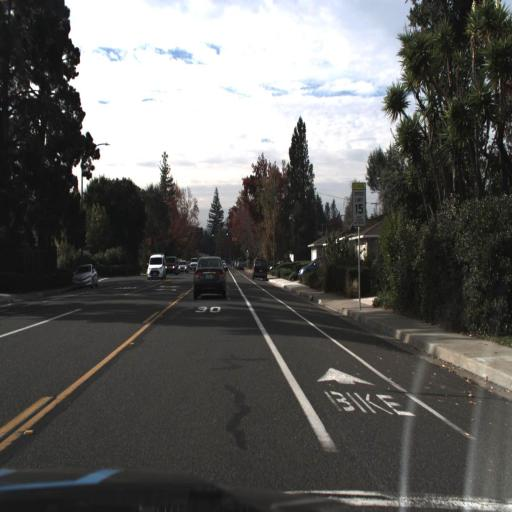car: (191, 253, 230, 302), (297, 253, 328, 282), (69, 262, 99, 290), (143, 252, 169, 282), (251, 254, 270, 281), (164, 251, 178, 277), (187, 251, 200, 275), (177, 257, 189, 274)
